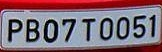character: (7, 18, 23, 43), (42, 18, 58, 43), (80, 17, 95, 42), (25, 18, 40, 42), (132, 14, 146, 39), (61, 18, 75, 42), (116, 16, 130, 40), (99, 16, 112, 40), (148, 14, 155, 38)
